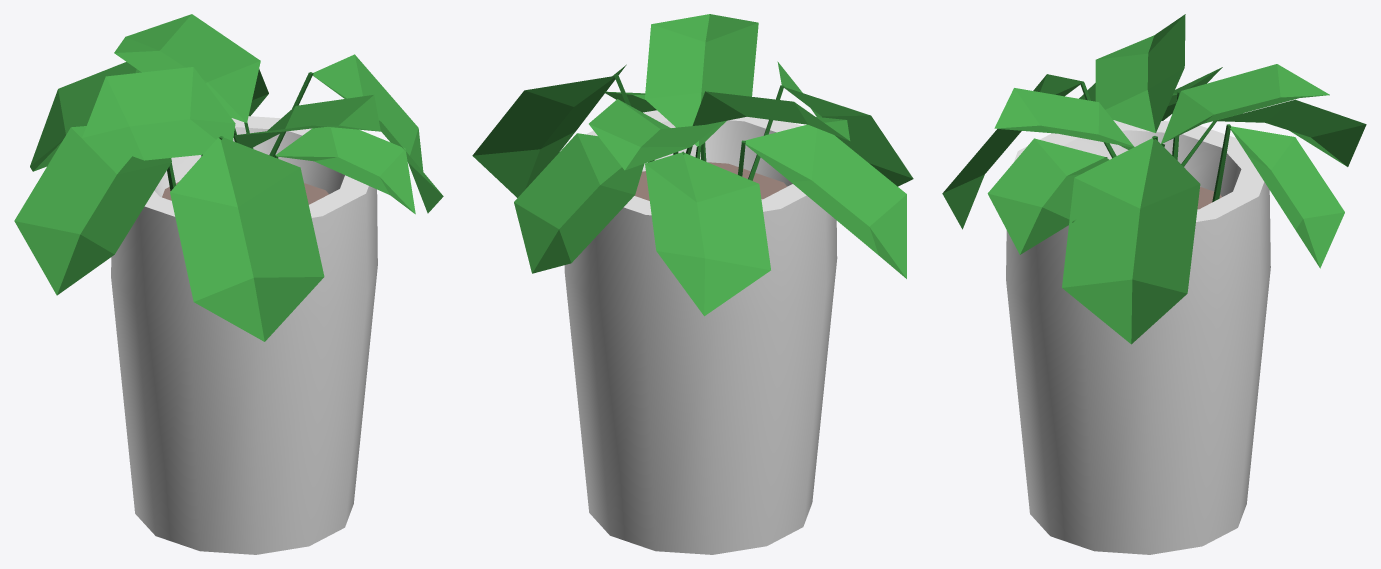
File: Plants_M2.fbx
The picture shows the model from 3 angles, left to right: view 1: azimuth 30°, elevation 25°; view 2: azimuth 150°, elevation 25°; view 3: azimuth 270°, elevation 25°; orthographic projection. The views are drawn at different scales.
Visible parts, largest first — view 1: Plants_M2; view 2: Plants_M2; view 3: Plants_M2.
Boxes of the visible parts, x1,y1,x2,y2 form: Plants_M2: [14, 14, 443, 554]; Plants_M2: [472, 14, 913, 554]; Plants_M2: [942, 14, 1366, 554].
Size of the model in its own units: 0.4812 by 0.5077 by 0.4443.
Materials: 1 (1 with a texture image).
